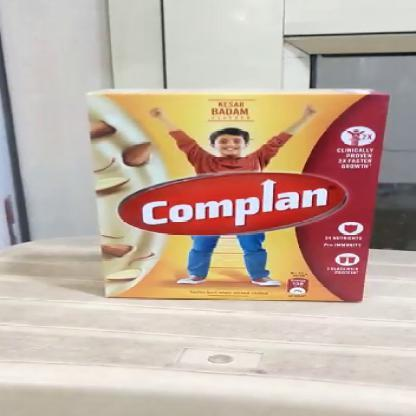Complan Kesar Badam: (72, 82, 397, 306)
